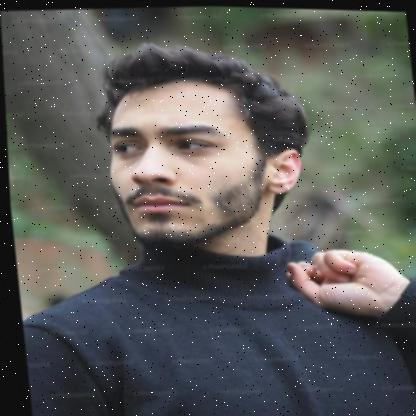person: (1, 20, 416, 416)
